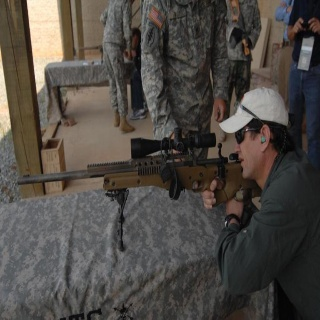rifle: (15, 128, 259, 252)
